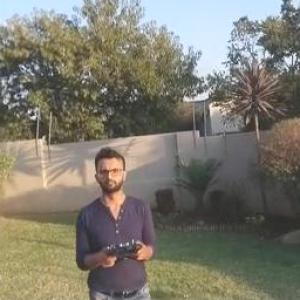follow: (70, 136, 166, 299)
